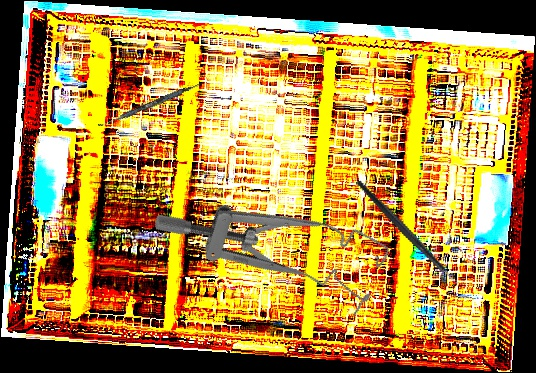Chopper: (355, 157, 469, 309)
Spatula Surgical: (97, 78, 205, 131)
Speculum: (149, 142, 398, 337)
